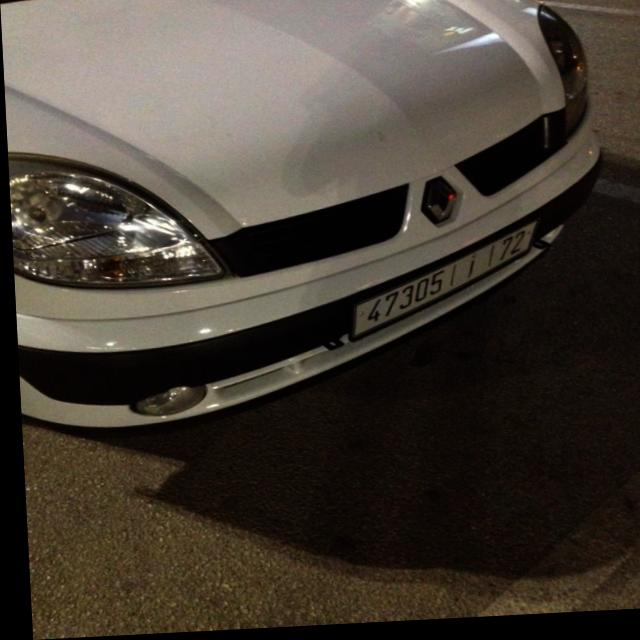License-Plate: (346, 225, 537, 342)
